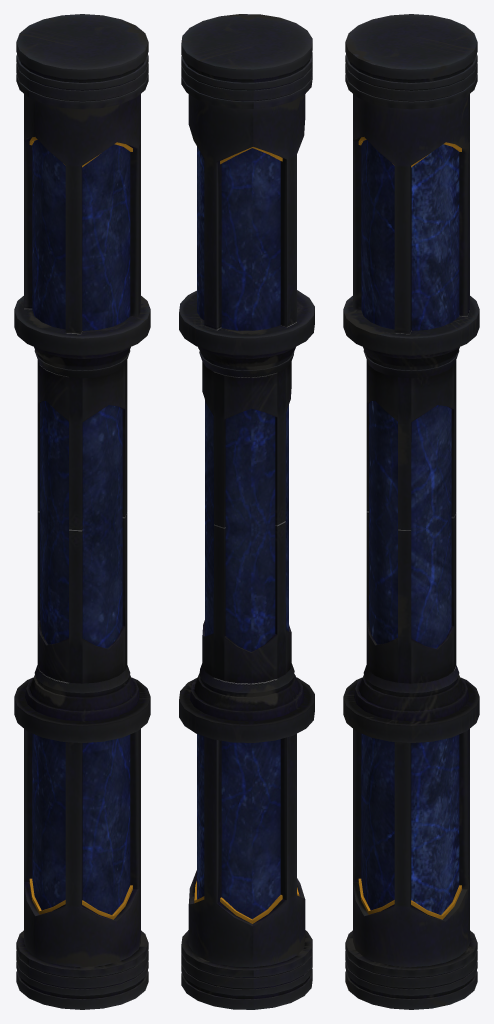
Rendered from columns_low_columns_low_0.003_lev2.glb.
3 views of the same model, side by side, from view 1: azimuth 90°, elevation 25°; view 2: azimuth 150°, elevation 25°; view 3: azimuth 270°, elevation 25° (orthographic).
Parts seen in each view (by area): view 1: columns_low_columns_low_0.003_lev2; view 2: columns_low_columns_low_0.003_lev2; view 3: columns_low_columns_low_0.003_lev2.
Boxes of the visible parts, left/top/right/bottom form: columns_low_columns_low_0.003_lev2: left=14, top=14, right=150, bottom=1009; columns_low_columns_low_0.003_lev2: left=179, top=14, right=314, bottom=1009; columns_low_columns_low_0.003_lev2: left=343, top=14, right=479, bottom=1009.
Bounding box in the file's own units: 1 × 7.6 × 1.
Materials: 1 (1 with a texture image).
